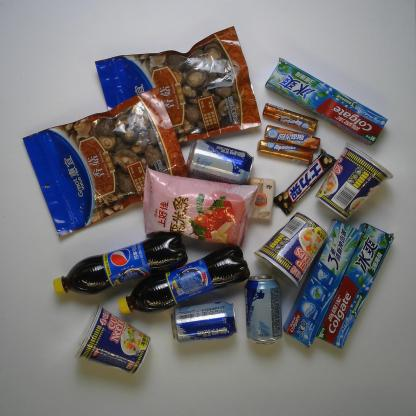Alcohol: (186, 139, 254, 185), (170, 300, 238, 344), (244, 274, 283, 344)
Candy: (262, 102, 318, 133), (256, 139, 314, 165), (263, 125, 321, 150)
Chocolate: (273, 148, 337, 215)
Dried Food: (21, 86, 190, 238), (94, 25, 262, 144)
Drink: (116, 246, 250, 316), (53, 232, 188, 298)
Instant Noodles: (314, 142, 394, 221), (253, 208, 329, 290), (73, 304, 151, 376)
Personal Hygiene: (264, 57, 388, 146), (282, 218, 364, 348), (316, 222, 395, 350)
Puffed Food: (142, 164, 260, 248)
Tissue: (244, 177, 276, 221)
